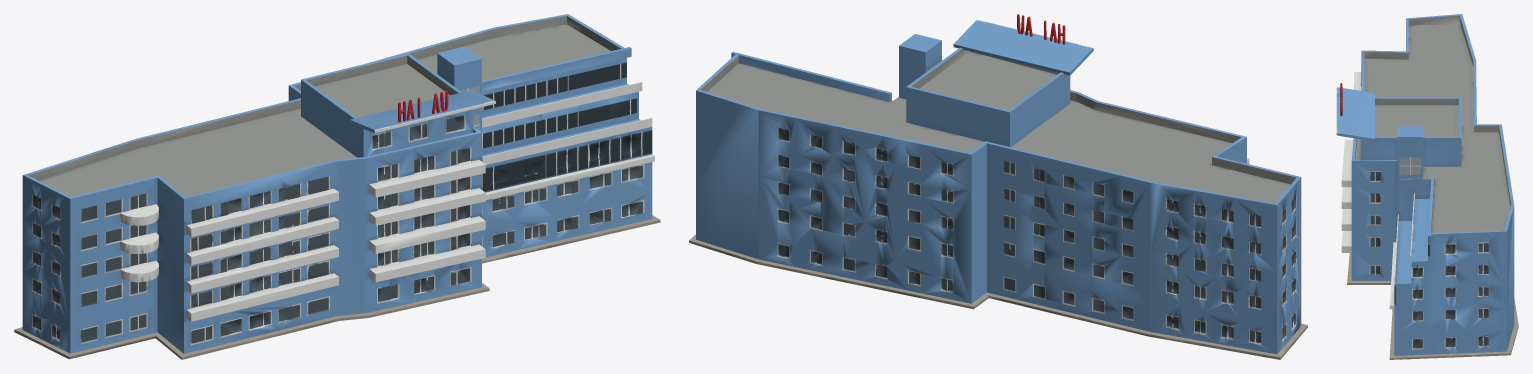
File: khach_san_hai_au.mid.glb
3 views of the same model, side by side, from view 1: azimuth 30°, elevation 25°; view 2: azimuth 150°, elevation 25°; view 3: azimuth 270°, elevation 25° (orthographic). The views are drawn at different scales.
Visible parts, largest first — view 1: khach_san_hai_au; view 2: khach_san_hai_au; view 3: khach_san_hai_au.
Boxes of the visible parts, bbox=[...] form: khach_san_hai_au: bbox=[14, 14, 660, 359]; khach_san_hai_au: bbox=[689, 14, 1307, 359]; khach_san_hai_au: bbox=[1336, 14, 1518, 359].
Size of the model in its own units: 73.06 by 25.06 by 24.9.
3 materials, 3 textured.
